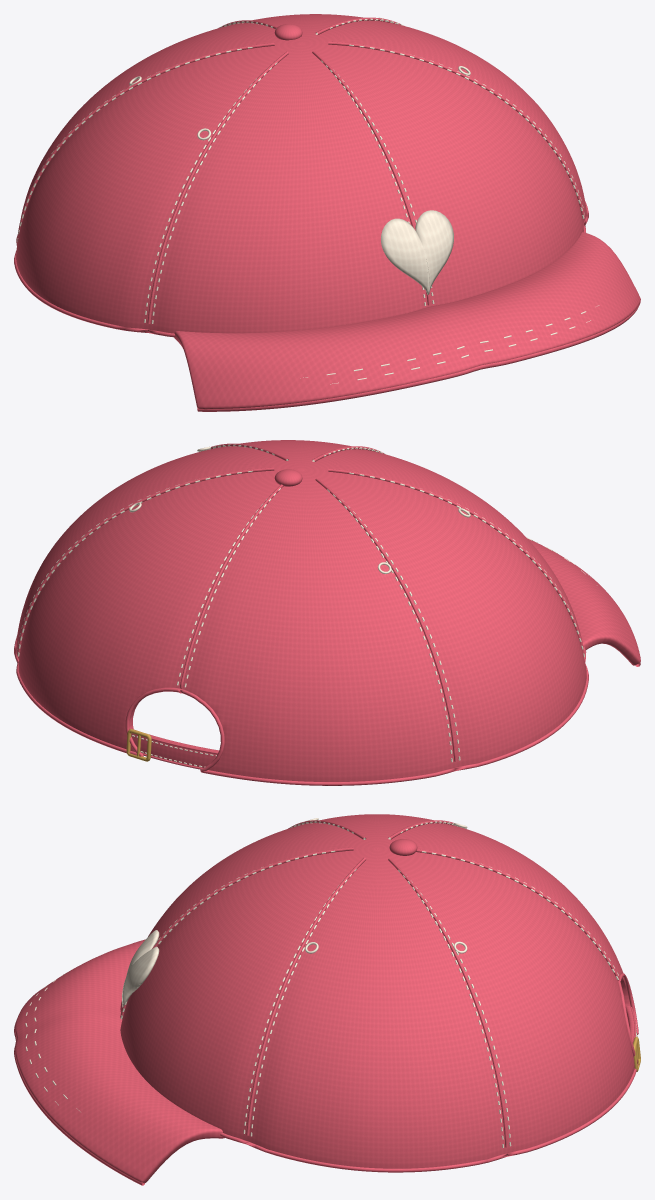
Rendered from cap_coral_r2_bear.glb.
3 renders of one model, top to bottom at view 1: azimuth 30°, elevation 25°; view 2: azimuth 150°, elevation 25°; view 3: azimuth 270°, elevation 25°, orthographic.
Parts seen in each view (by area): view 1: Gorra coral R2 · pieza completa; view 2: Gorra coral R2 · pieza completa; view 3: Gorra coral R2 · pieza completa.
Part boxes in pixels (<box>): Gorra coral R2 · pieza completa: <box>14,14,640,411</box>; Gorra coral R2 · pieza completa: <box>14,440,640,785</box>; Gorra coral R2 · pieza completa: <box>14,814,640,1185</box>.
Size of the model in its own units: 0.8112 by 0.3554 by 0.8505.
Materials: 4 (2 with a texture image).
